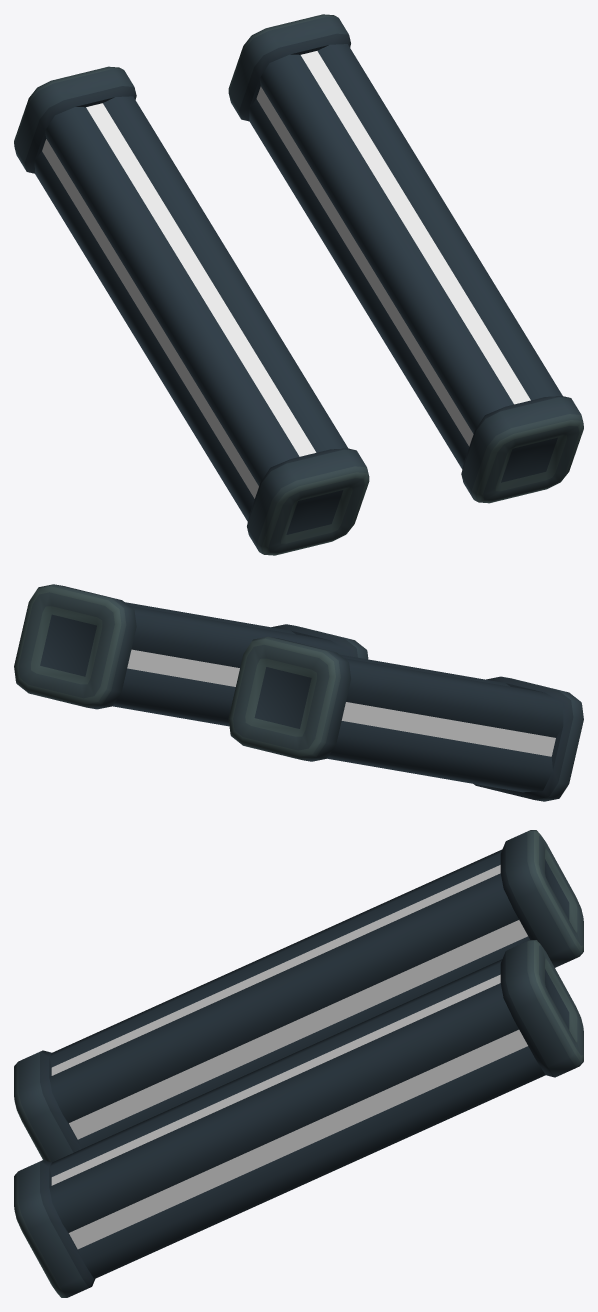
File: Track_Horizontal_Dia.fbx
The picture shows the model from 3 angles, top to bottom: view 1: azimuth 30°, elevation 25°; view 2: azimuth 150°, elevation 25°; view 3: azimuth 270°, elevation 25°; orthographic projection. The views are drawn at different scales.
Parts seen in each view (by area): view 1: Track_Horizontal_Dia_LOD0; view 2: Track_Horizontal_Dia_LOD0; view 3: Track_Horizontal_Dia_LOD0.
Boxes of the visible parts, x1,y1,x2,y2 form: Track_Horizontal_Dia_LOD0: (14, 14, 583, 555); Track_Horizontal_Dia_LOD0: (14, 584, 583, 801); Track_Horizontal_Dia_LOD0: (14, 830, 583, 1297).
Size of what is drawn, in the model's own units: 0.7263 by 0.6925 by 1.1.
